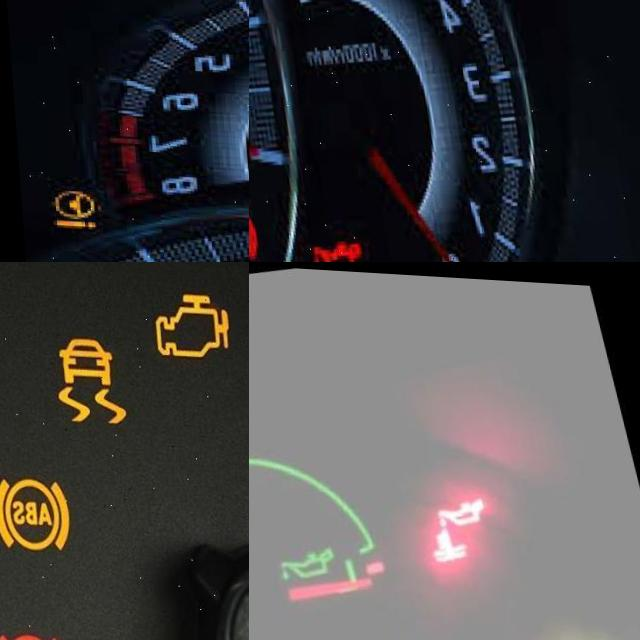Electronic Power Steering Warning: (44, 188, 92, 234)
Engine cooling system: (424, 515, 471, 559)
